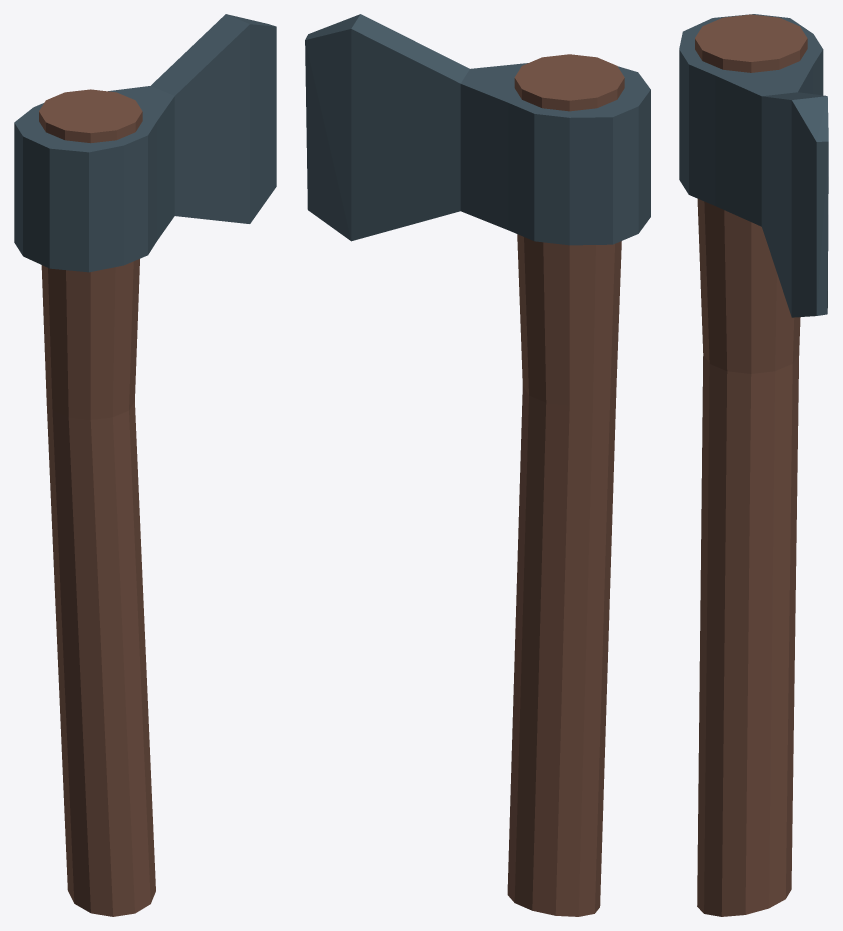
The model's file is Hatchet 3D Model by zeoxo.glb.
3 views of the same model, side by side, from view 1: azimuth 30°, elevation 25°; view 2: azimuth 150°, elevation 25°; view 3: azimuth 270°, elevation 25° (orthographic). The views are drawn at different scales.
Visible parts, largest first — view 1: group17201842, group1884462798; view 2: group17201842, group1884462798; view 3: group17201842, group1884462798.
Boxes of the visible parts, left/top/right/bottom form: group17201842: left=39, top=89, right=155, bottom=916; group1884462798: left=14, top=14, right=276, bottom=272; group17201842: left=507, top=54, right=624, bottom=916; group1884462798: left=305, top=14, right=650, bottom=245; group17201842: left=695, top=14, right=807, bottom=916; group1884462798: left=679, top=14, right=828, bottom=317.
Bounding box in the file's own units: 0.2954 × 0.8195 × 0.1247.
